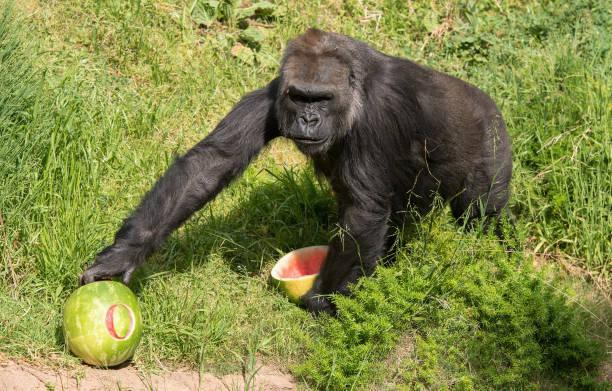gorille_Autres: (174, 2, 527, 236)
